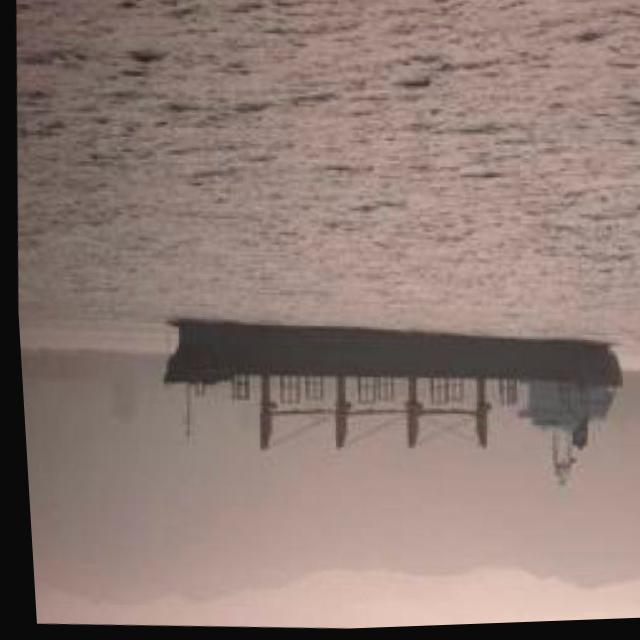ship2: (156, 319, 619, 493)
